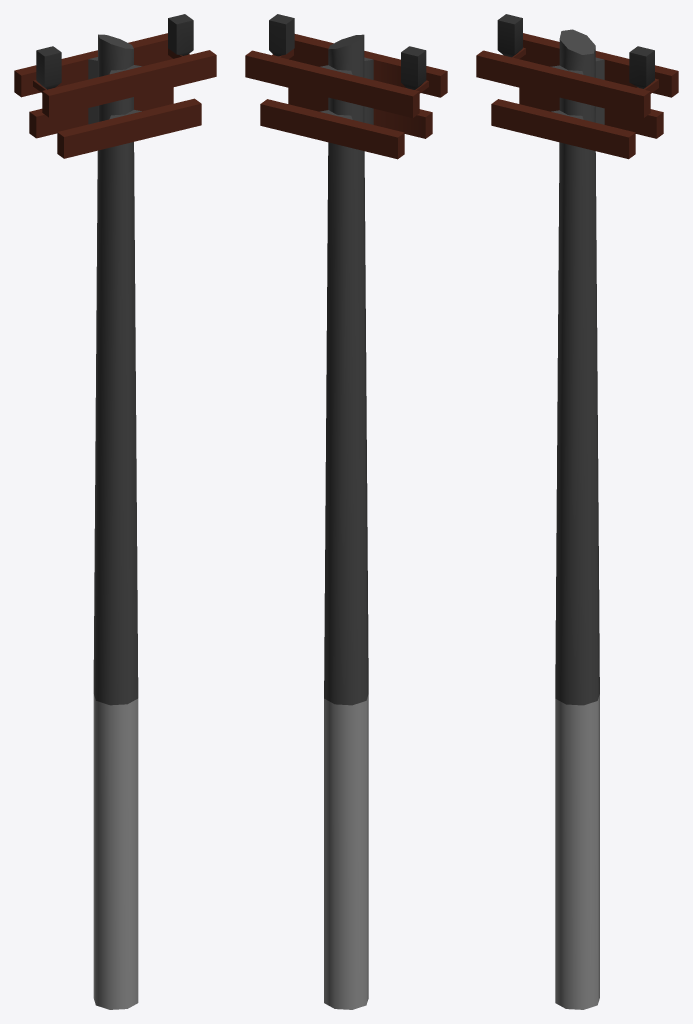
The model's file is Eletric Pole1.fbx.
3 renders of one model, left to right at view 1: azimuth 30°, elevation 25°; view 2: azimuth 150°, elevation 25°; view 3: azimuth 330°, elevation 25°, orthographic.
Parts seen in each view (by area): view 1: Eletric Pole1; view 2: Eletric Pole1; view 3: Eletric Pole1.
Part boxes in pixels (x1,y1,x2,y2): Eletric Pole1: [14, 14, 216, 1009]; Eletric Pole1: [245, 14, 447, 1009]; Eletric Pole1: [476, 14, 678, 1009].
Size of the model in its own units: 127 by 699 by 45.43.
